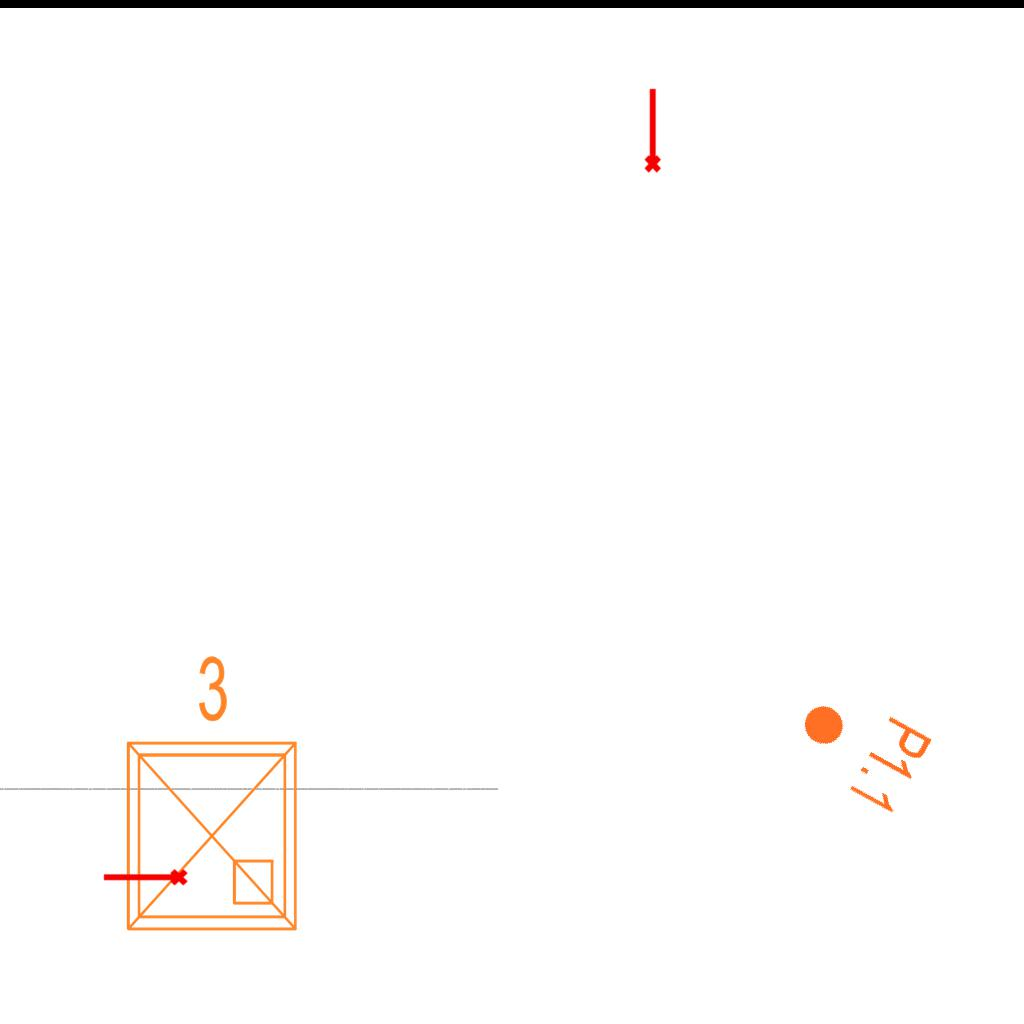ASR_Ansaugoeffnung: (640, 86, 663, 174), (101, 867, 189, 890)
Downlight_LED_Einbauleuchten_Flur: (779, 676, 938, 820)
Einbaudownlights_LED_Konferenzraeume: (104, 645, 312, 945)
